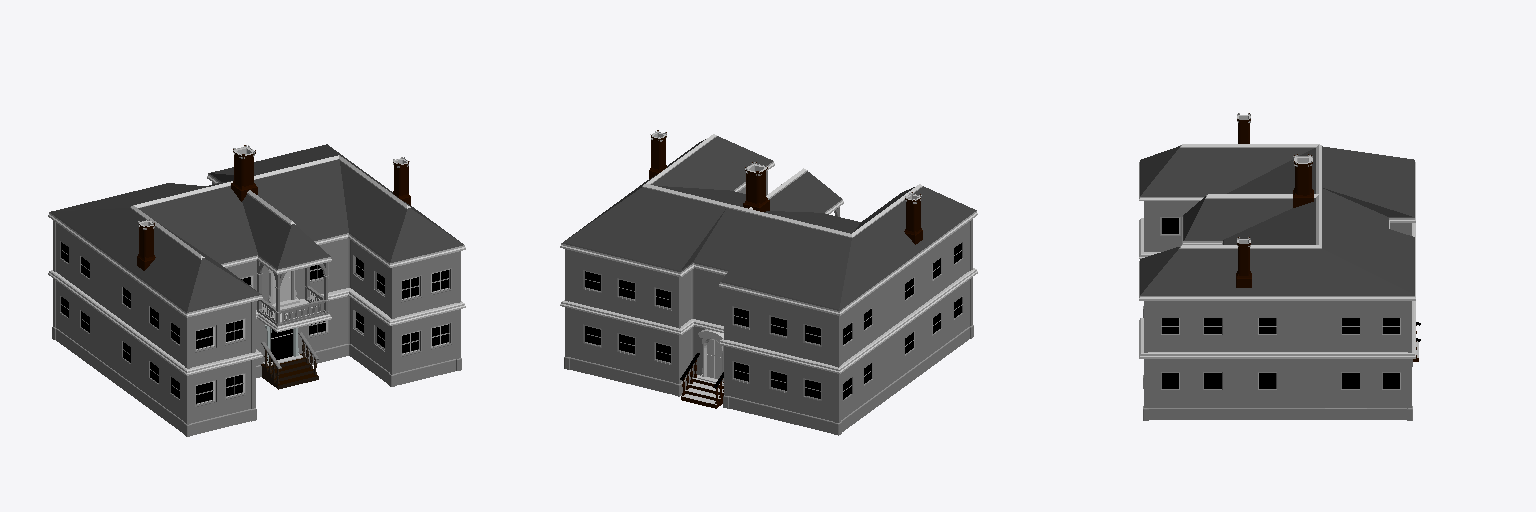
Rendered from maison2.obj.
3 renders of one model, left to right at view 1: azimuth 30°, elevation 25°; view 2: azimuth 150°, elevation 25°; view 3: azimuth 270°, elevation 25°, orthographic.
Parts seen in each view (by area): view 1: object; view 2: object; view 3: object.
Boxes of the visible parts, x1,y1,x2,y2 form: object: [48, 144, 465, 436]; object: [560, 130, 977, 435]; object: [1139, 113, 1420, 420].
Size of the model in its own units: 5 by 3.33 by 4.36.